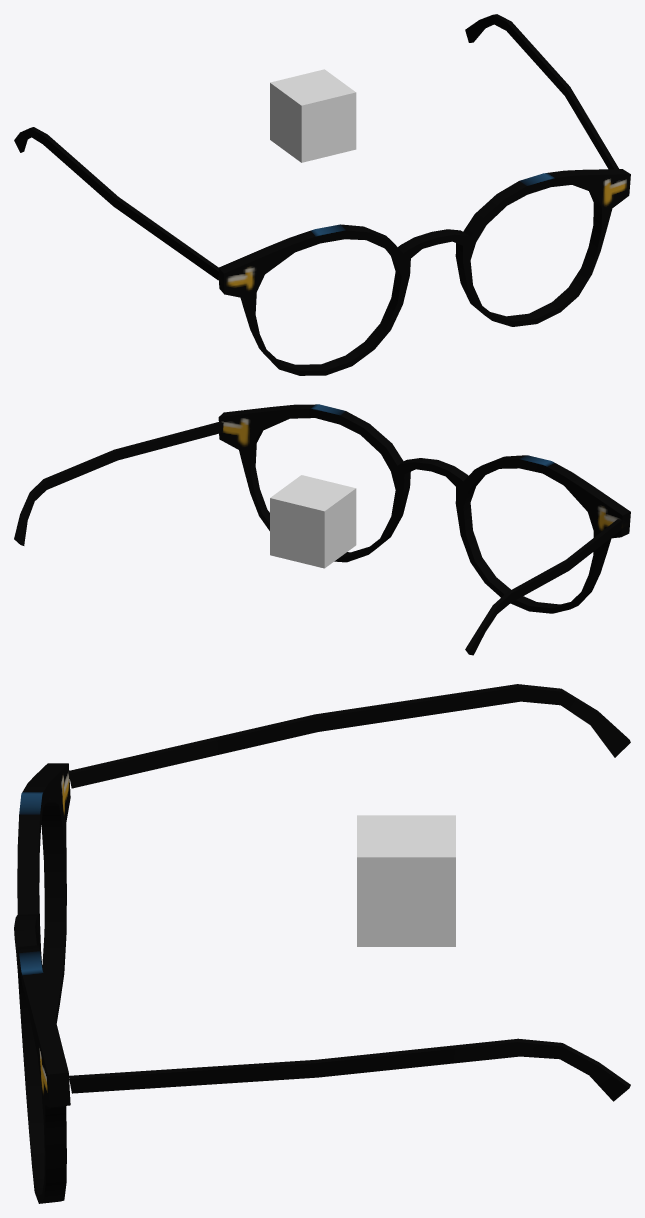
File: girl_glasses2.FBX
3 renders of one model, top to bottom at view 1: azimuth 30°, elevation 25°; view 2: azimuth 150°, elevation 25°; view 3: azimuth 270°, elevation 25°, orthographic. The views are drawn at different scales.
Parts seen in each view (by area): view 1: girl_glasses017, faceSpawn; view 2: girl_glasses017, faceSpawn; view 3: girl_glasses017, faceSpawn.
Part boxes in pixels (x1,y1,x2,y2): girl_glasses017: (14,14,630,375); faceSpawn: (270,69,356,162); girl_glasses017: (14,404,630,655); faceSpawn: (270,475,356,568); girl_glasses017: (14,684,630,1203); faceSpawn: (357,815,455,946).
Size of the model in its own units: 42.8 by 15.34 by 31.17.
